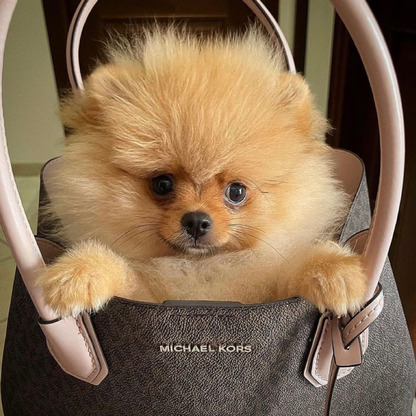Pomeranian: (33, 29, 381, 326)
